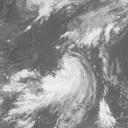cyclone: (42, 54, 90, 99)
